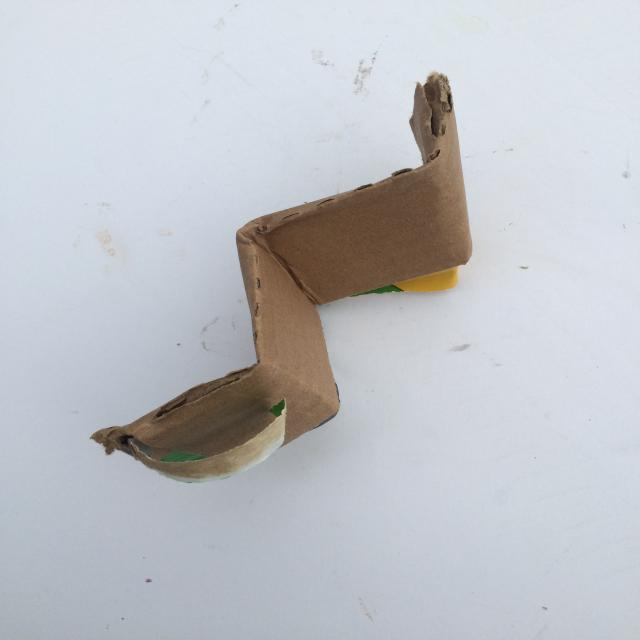cardboard: (90, 70, 473, 483)
